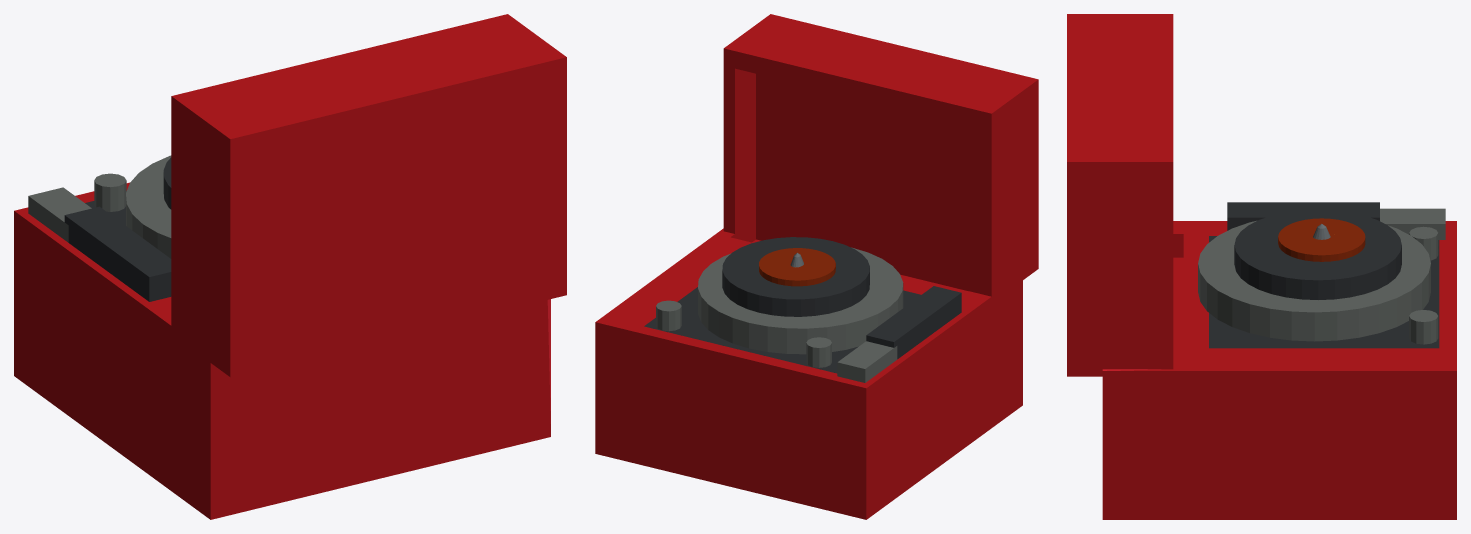
Rendered from MusicMachine.fbx.
3 renders of one model, left to right at view 1: azimuth 30°, elevation 25°; view 2: azimuth 150°, elevation 25°; view 3: azimuth 270°, elevation 25°, orthographic. The views are drawn at different scales.
Visible parts, largest first — view 1: Shape_IndexedFaceSet; view 2: Shape_IndexedFaceSet; view 3: Shape_IndexedFaceSet.
Part boxes in pixels (x1,y1,x2,y2): Shape_IndexedFaceSet: [14, 14, 566, 519]; Shape_IndexedFaceSet: [595, 14, 1038, 519]; Shape_IndexedFaceSet: [1067, 14, 1456, 519].
Size of the model in its own units: 958 by 1063 by 1054.
